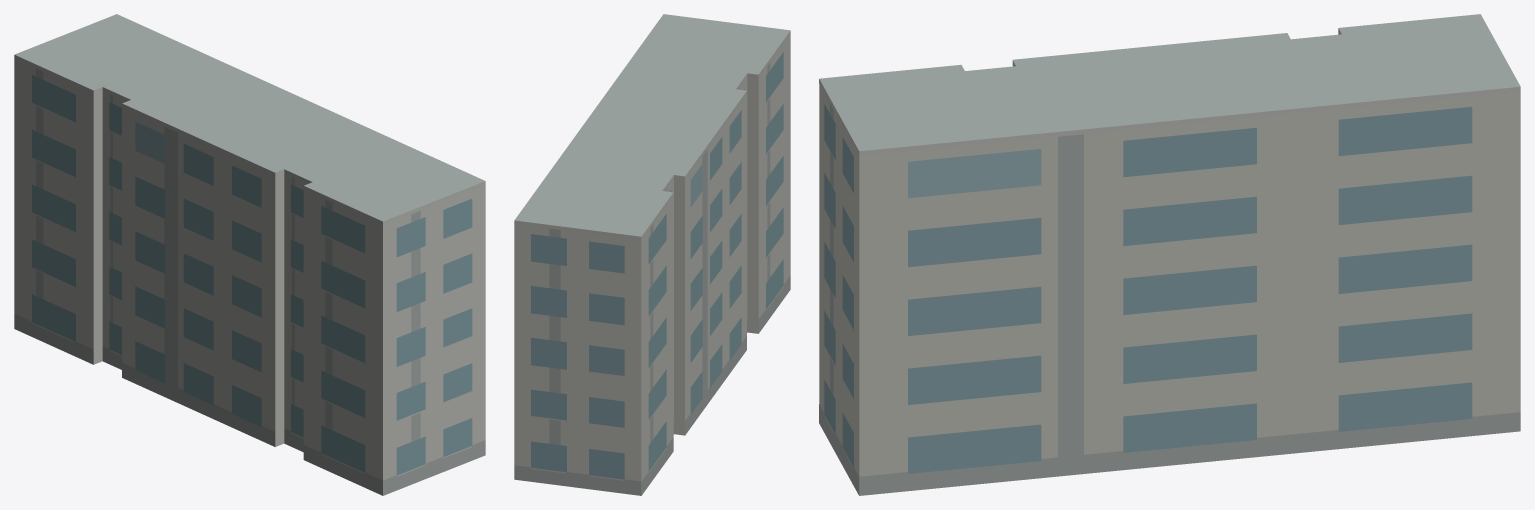
File: survey-upis-33000287.glb
The picture shows the model from 3 angles, left to right: view 1: azimuth 30°, elevation 25°; view 2: azimuth 150°, elevation 25°; view 3: azimuth 270°, elevation 25°; orthographic projection. The views are drawn at different scales.
Parts seen in each view (by area): view 1: survey-upis-33000287.tmp; view 2: survey-upis-33000287.tmp; view 3: survey-upis-33000287.tmp.
Part boxes in pixels (bbox=[...]): survey-upis-33000287.tmp: bbox=[14, 14, 485, 495]; survey-upis-33000287.tmp: bbox=[514, 14, 790, 495]; survey-upis-33000287.tmp: bbox=[819, 14, 1520, 495].
Bounding box in the file's own units: 14.62 × 17.1 × 31.56.
